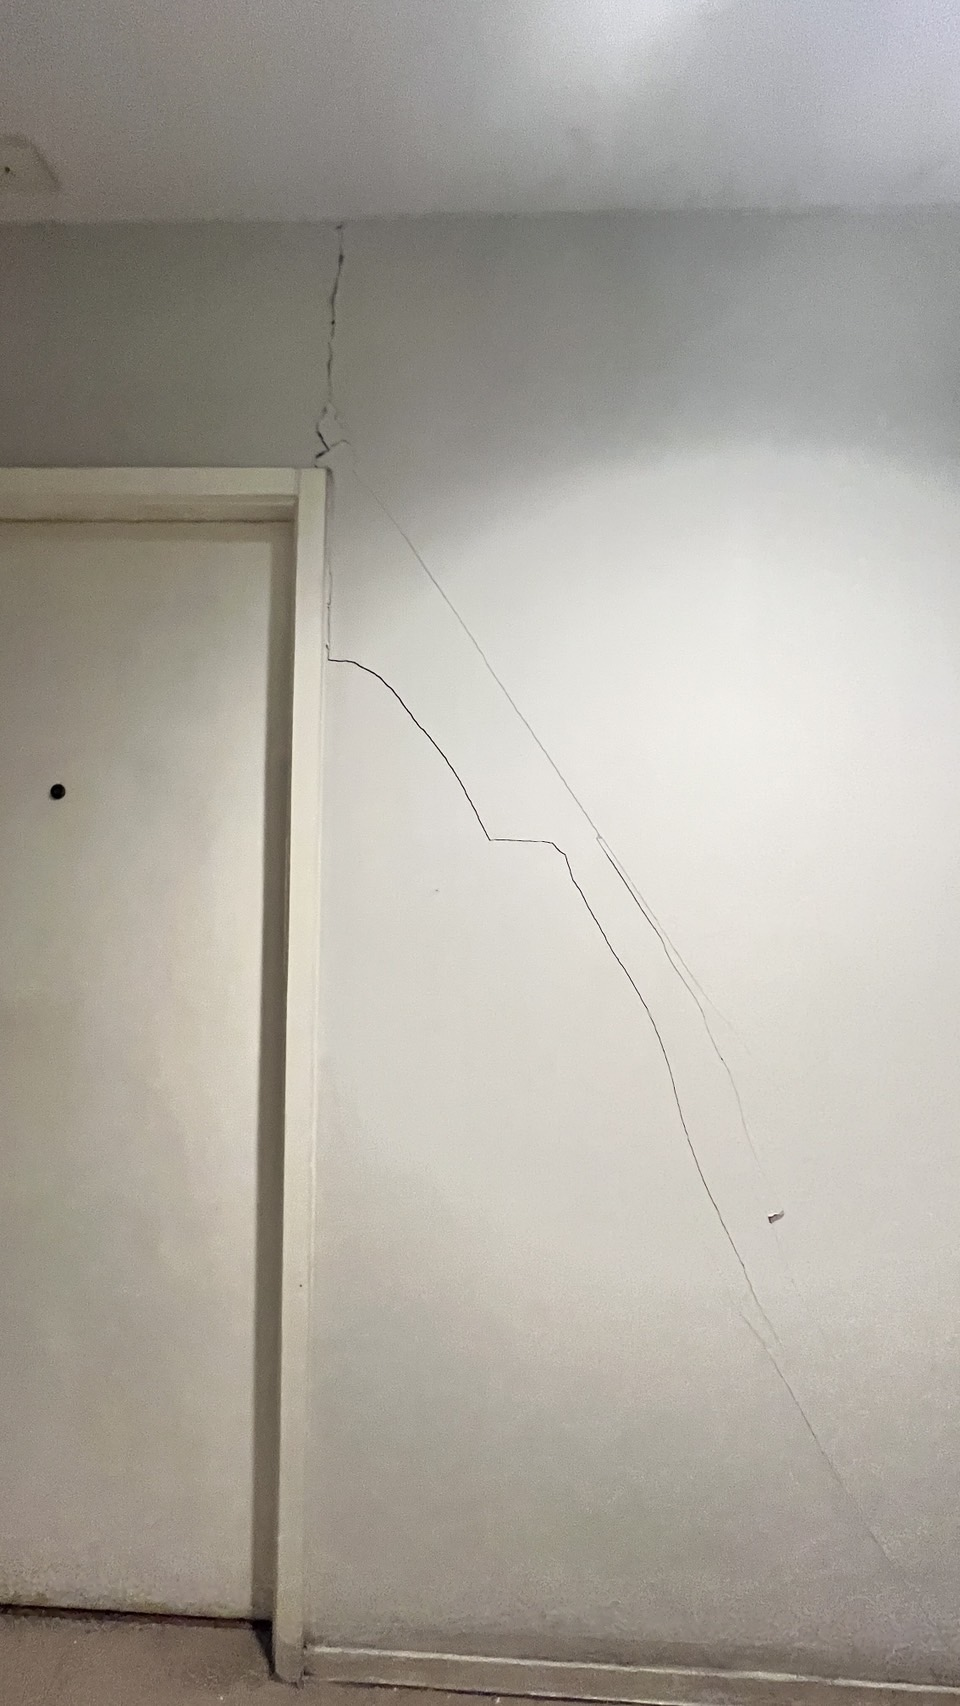Low: (290, 212, 960, 1645)
